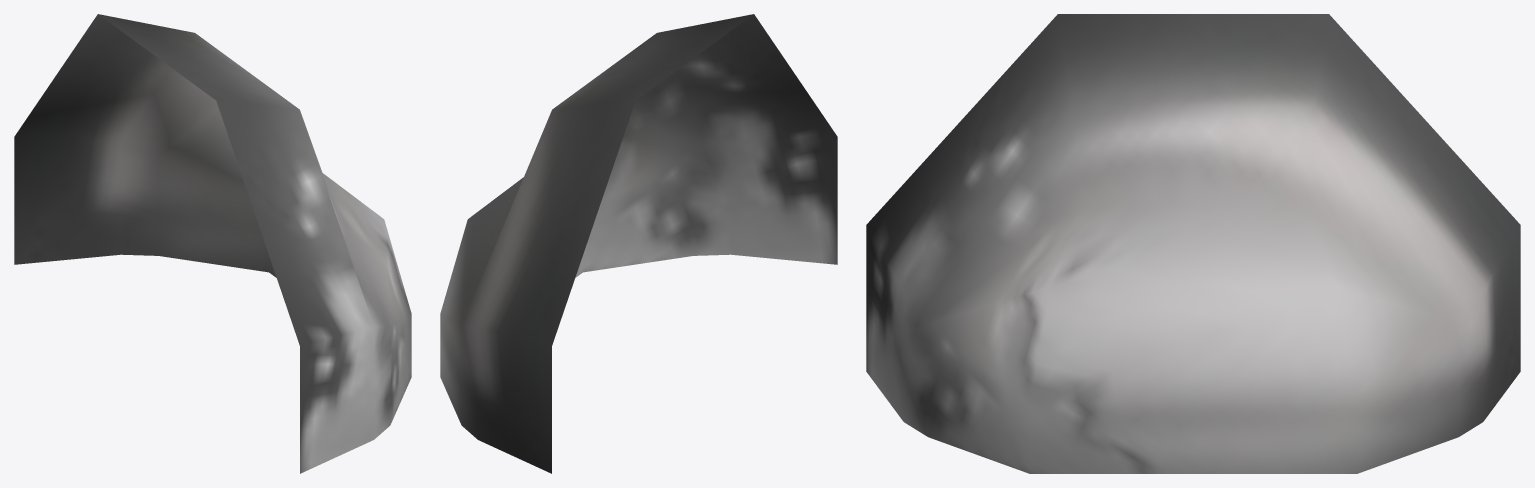
The model's file is acc_28.glb.
3 renders of one model, left to right at view 1: azimuth 30°, elevation 25°; view 2: azimuth 150°, elevation 25°; view 3: azimuth 270°, elevation 25°, orthographic. The views are drawn at different scales.
Visible parts, largest first — view 1: vertex; view 2: vertex; view 3: vertex.
Boxes of the visible parts, x1,y1,x2,y2 form: vertex: (14, 14, 411, 473); vertex: (440, 14, 837, 473); vertex: (866, 14, 1520, 473).
Bounding box in the file's own units: 0.3653 × 0.5944 × 0.9861.
Materials: 1 (1 with a texture image).
